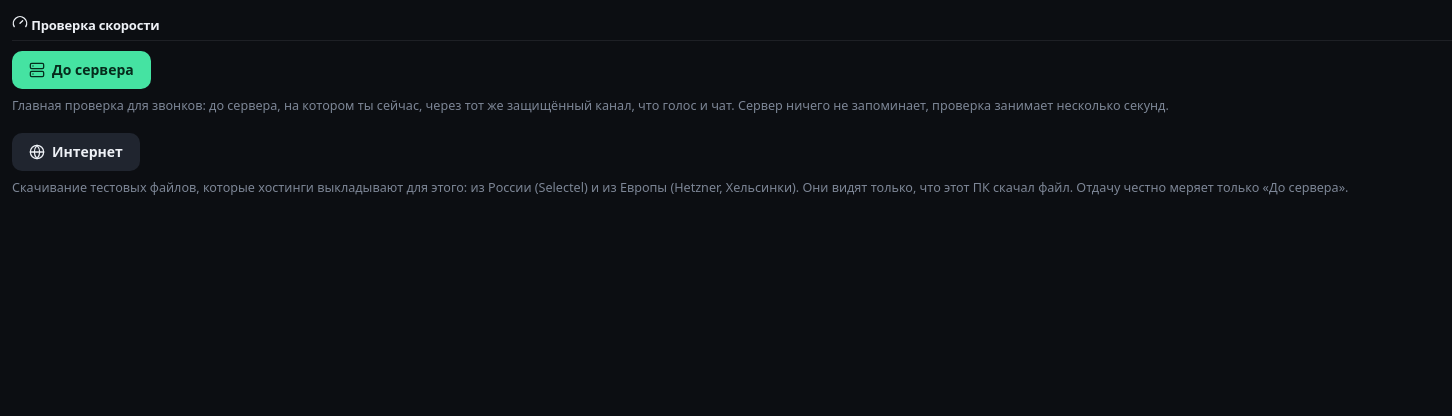
it: «Сеть»: the speed test › measures the way to the server we are on, and says how fast
Click the button "До сервера": (81, 70) [12,51,151,89]
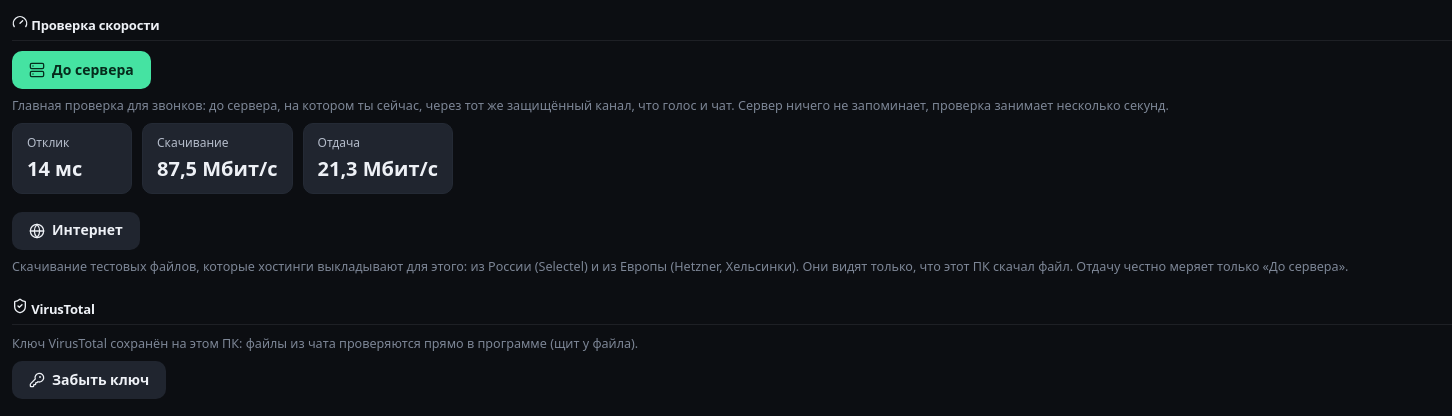
Result: the text "14 мс" is shown at [27,154,82,182]
Result: the text "87,5 Мбит/с" is shown at [157,154,278,182]
Result: the text "21,3 Мбит/с" is shown at [318,154,438,182]
